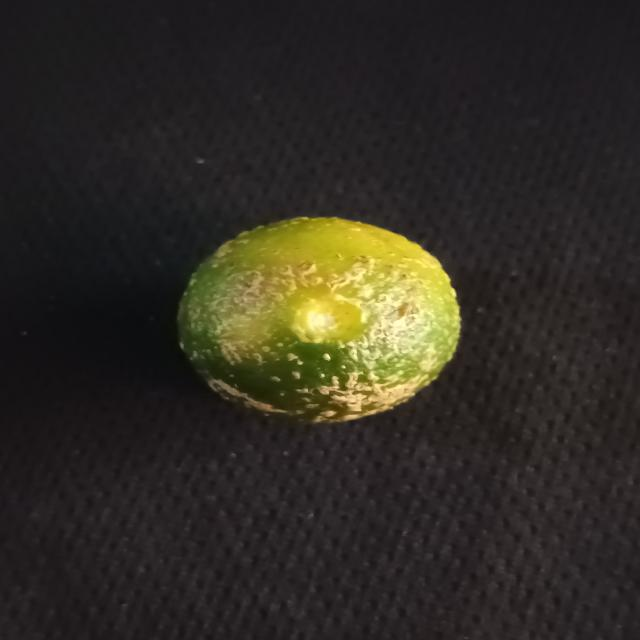scab: (166, 209, 468, 429)
